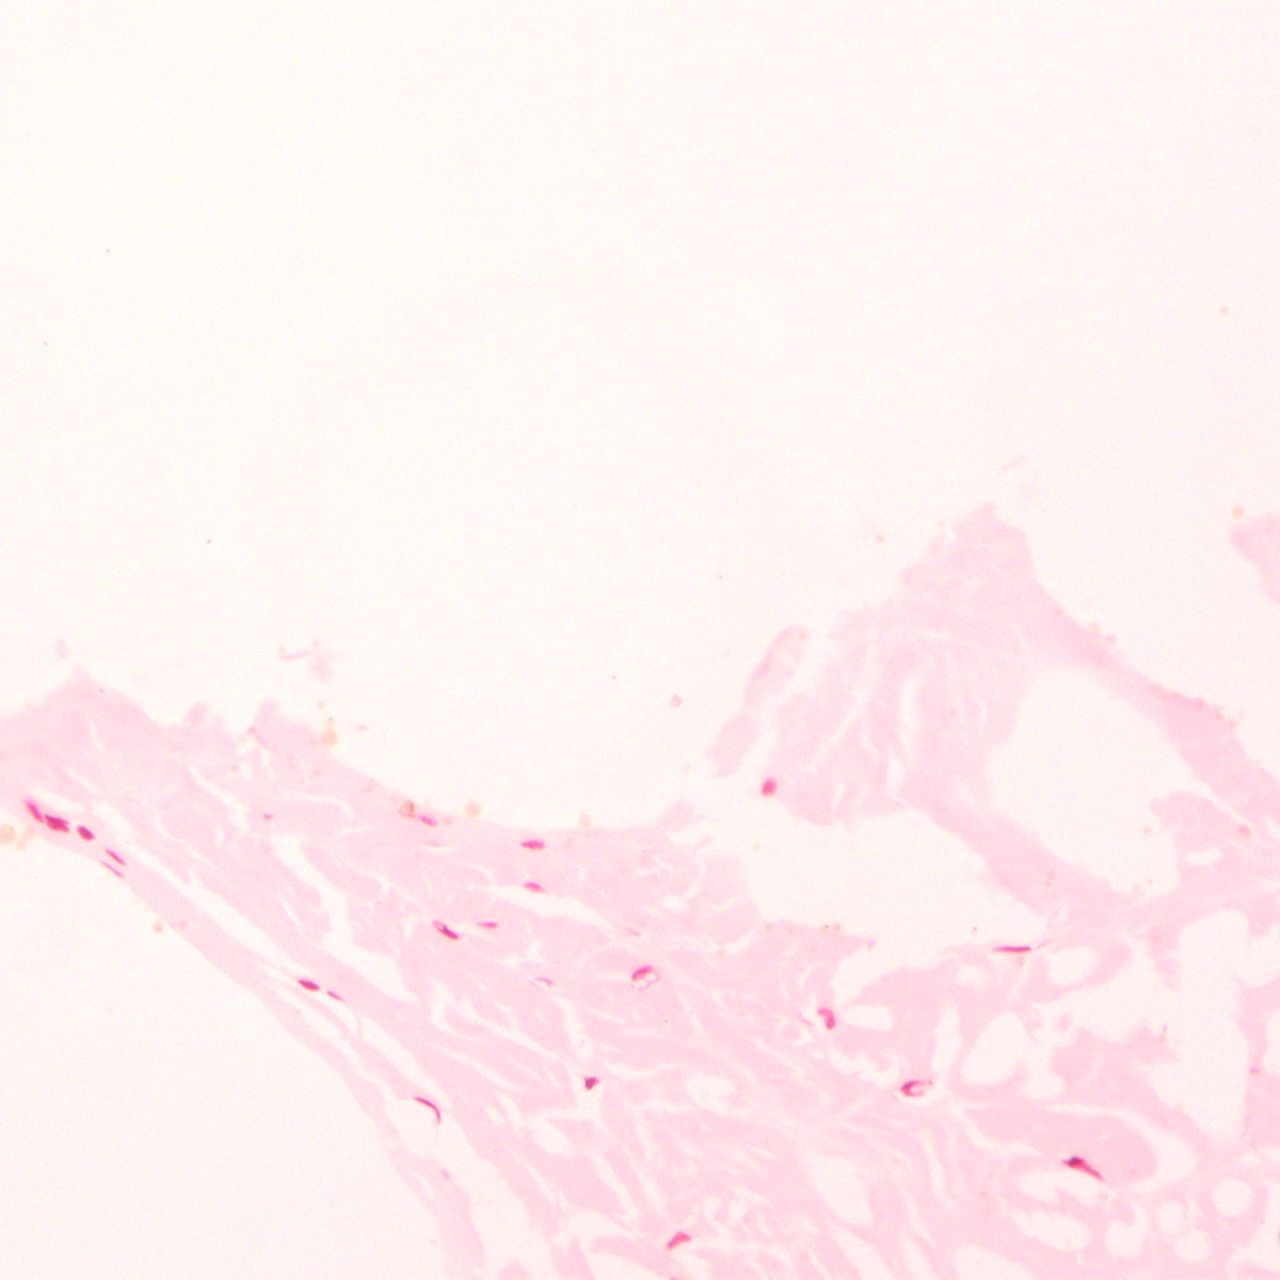dust: (263, 813, 275, 821), (408, 803, 415, 813), (41, 340, 50, 347), (104, 247, 113, 254), (972, 925, 978, 932), (206, 539, 212, 545), (824, 924, 829, 930)
nucleus-AC: (1062, 1148, 1105, 1189), (411, 1092, 449, 1125), (660, 1226, 694, 1254), (626, 959, 658, 987), (40, 810, 73, 837), (429, 917, 463, 942), (898, 1077, 935, 1099), (297, 973, 324, 998), (22, 797, 45, 823), (73, 822, 97, 844), (104, 846, 127, 869), (522, 876, 545, 896), (102, 862, 125, 880), (517, 838, 549, 851), (760, 775, 776, 798), (816, 1008, 835, 1028), (994, 945, 1034, 953), (533, 973, 554, 987), (418, 813, 435, 829), (584, 1075, 597, 1090), (476, 921, 499, 928)
